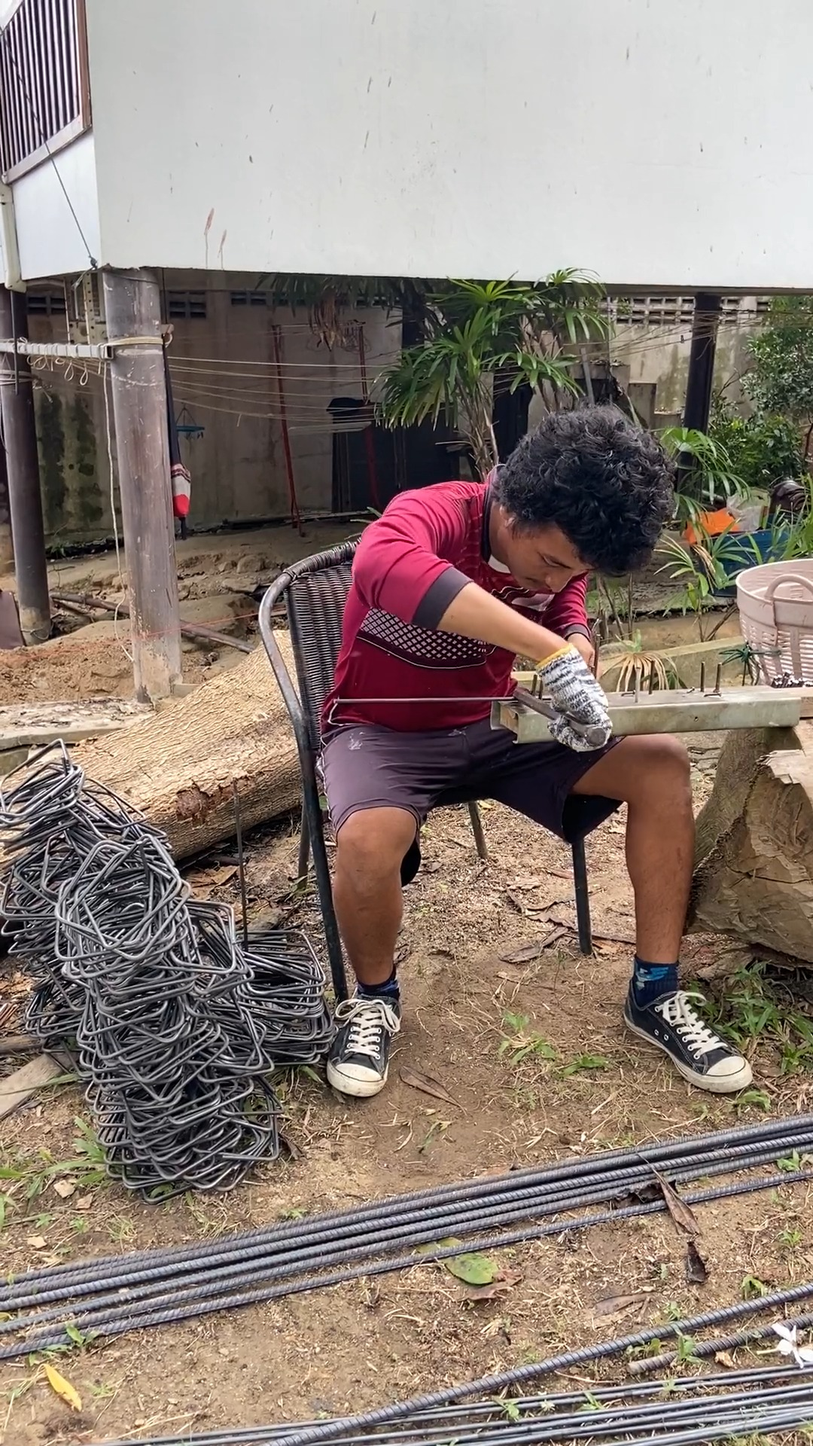gloves: (522, 615, 640, 767)
